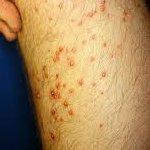Ants: (50, 43, 66, 63), (49, 80, 64, 100), (47, 108, 63, 125), (42, 66, 50, 81), (121, 8, 129, 23), (57, 0, 67, 12), (97, 0, 106, 12), (85, 9, 97, 18), (65, 108, 75, 118), (47, 130, 56, 141), (46, 16, 55, 24), (77, 18, 84, 26), (63, 100, 69, 109), (100, 71, 107, 78), (77, 79, 84, 86), (68, 87, 74, 95), (90, 81, 97, 87), (68, 59, 74, 66), (80, 38, 86, 45), (35, 92, 41, 98), (90, 56, 95, 62), (56, 74, 58, 79)
